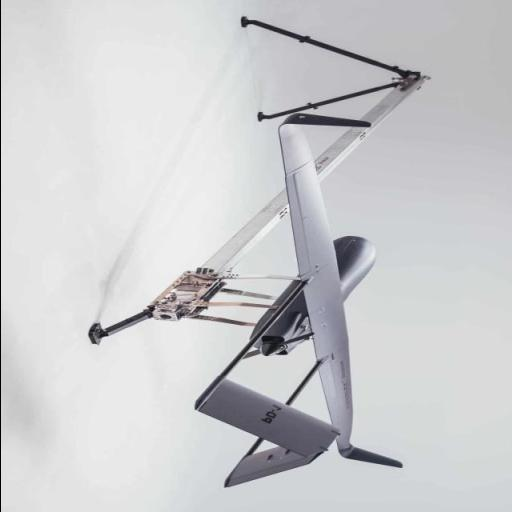uav: (196, 113, 418, 490)
